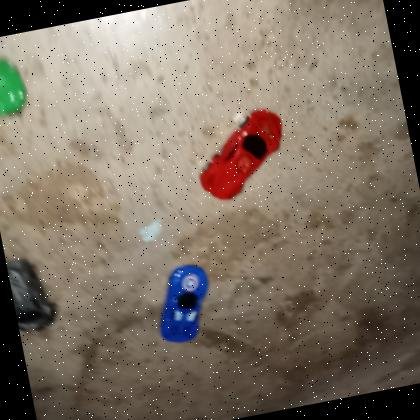Car: (188, 106, 296, 208), (148, 260, 220, 347)
